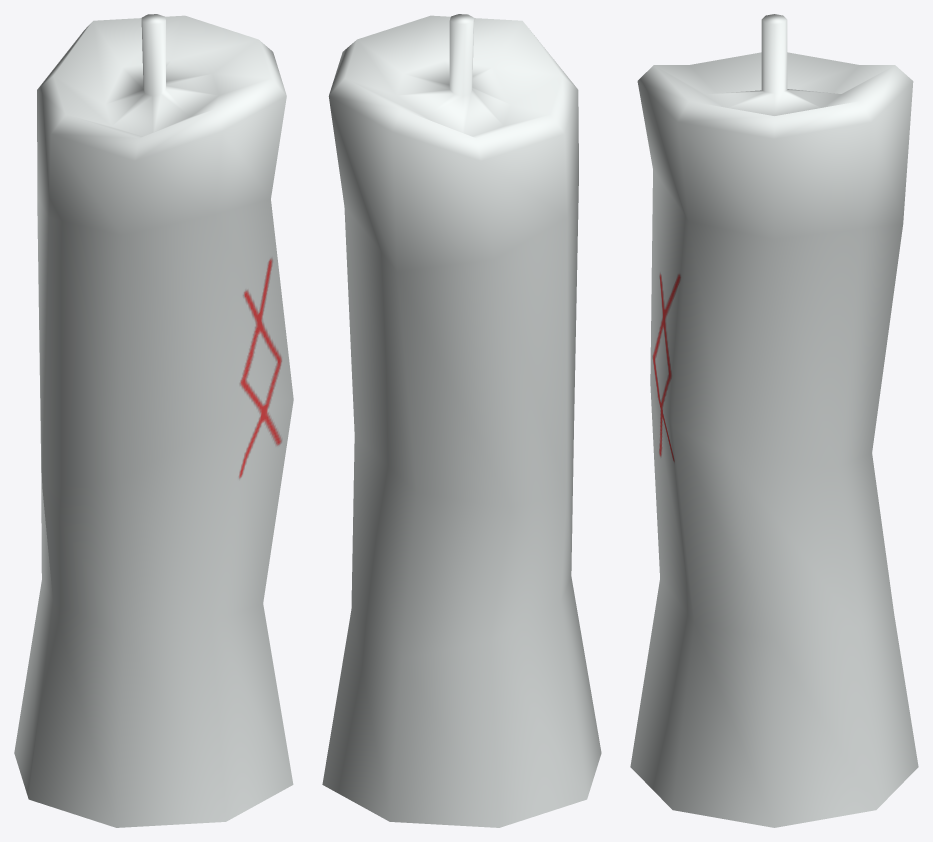
Rendered from Candle2.fbx.
The picture shows the model from 3 angles, left to right: view 1: azimuth 30°, elevation 25°; view 2: azimuth 150°, elevation 25°; view 3: azimuth 270°, elevation 25°; orthographic projection.
Visible parts, largest first — view 1: Cylinder.004.LOW; view 2: Cylinder.004.LOW; view 3: Cylinder.004.LOW.
Part boxes in pixels (x1,y1,x2,y2): Cylinder.004.LOW: (14, 14, 293, 827); Cylinder.004.LOW: (322, 14, 601, 827); Cylinder.004.LOW: (630, 14, 918, 827).
Bounding box in the file's own units: 4.81 × 13.76 × 4.81.
